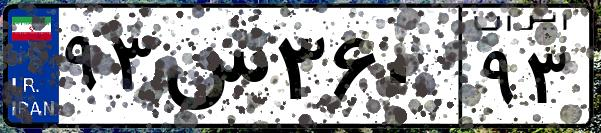0: (385, 28, 445, 110)
3: (270, 28, 330, 110), (525, 38, 570, 115), (110, 28, 158, 98)
6: (330, 28, 385, 110)
9: (57, 26, 110, 100), (475, 38, 525, 113)
س: (158, 20, 270, 120)
